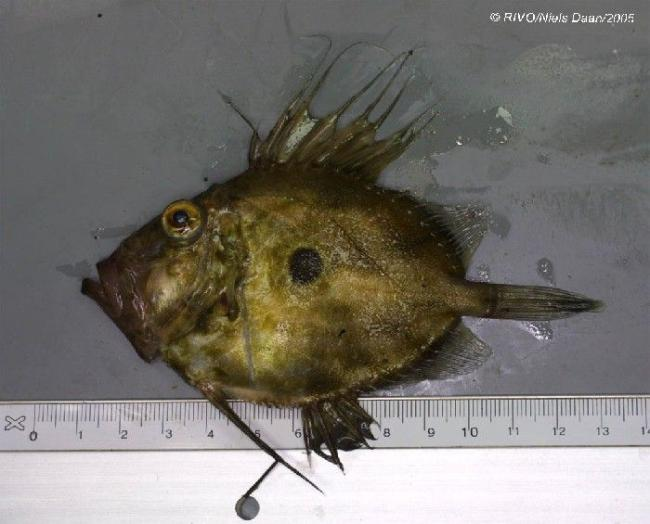fish: (80, 34, 609, 474)
